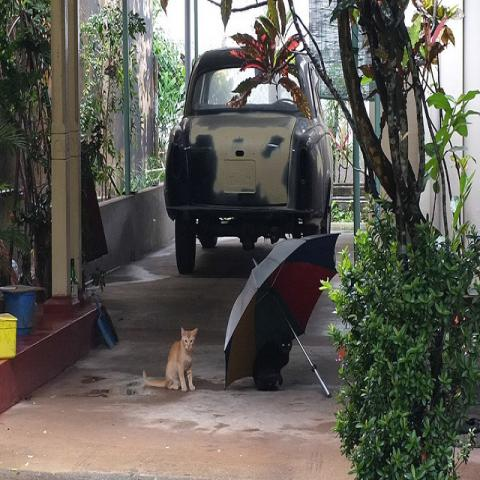car: (164, 48, 334, 278)
